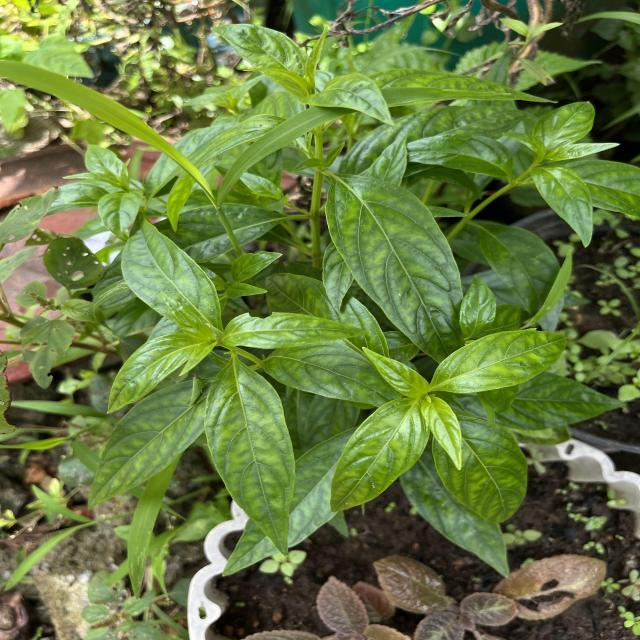Andrographis paniculata: (325, 172, 465, 358), (202, 358, 297, 560), (87, 380, 205, 510), (120, 211, 223, 336), (330, 396, 430, 514), (432, 414, 528, 524), (428, 330, 569, 395), (106, 332, 196, 416), (222, 310, 370, 350), (531, 165, 594, 248), (358, 344, 432, 398), (420, 397, 464, 472), (530, 100, 598, 146)
